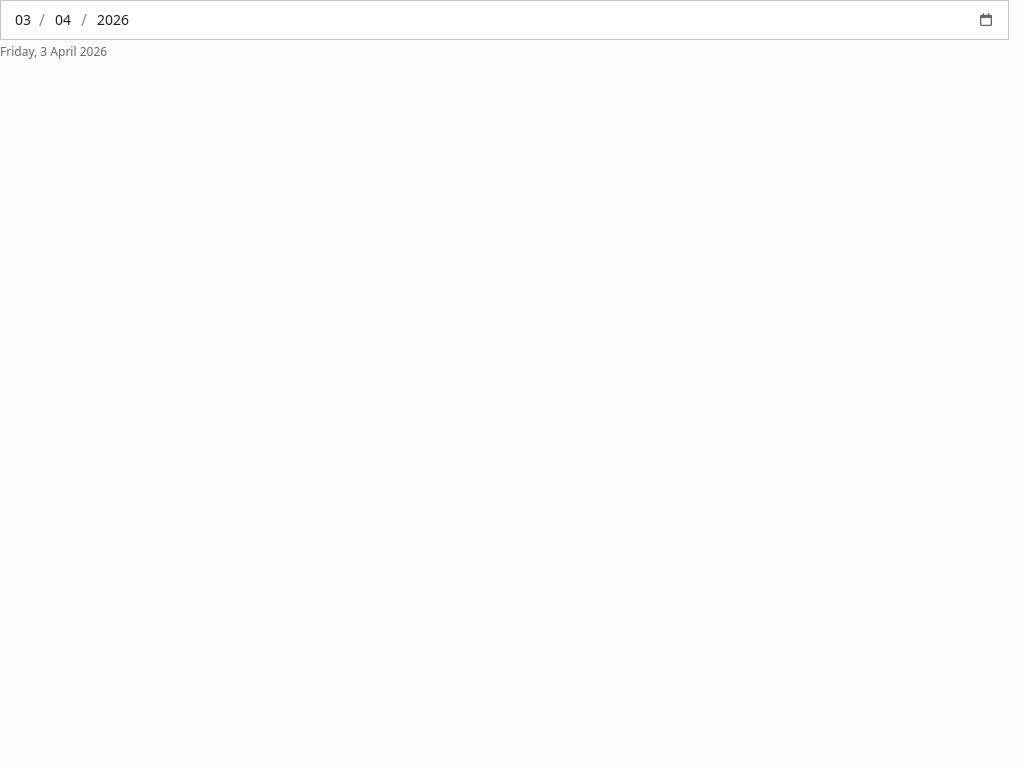
as a controlled field › can be cleared when it is not required
Click the button named "Open calendar": [986, 20] box [972, 6, 1000, 34]
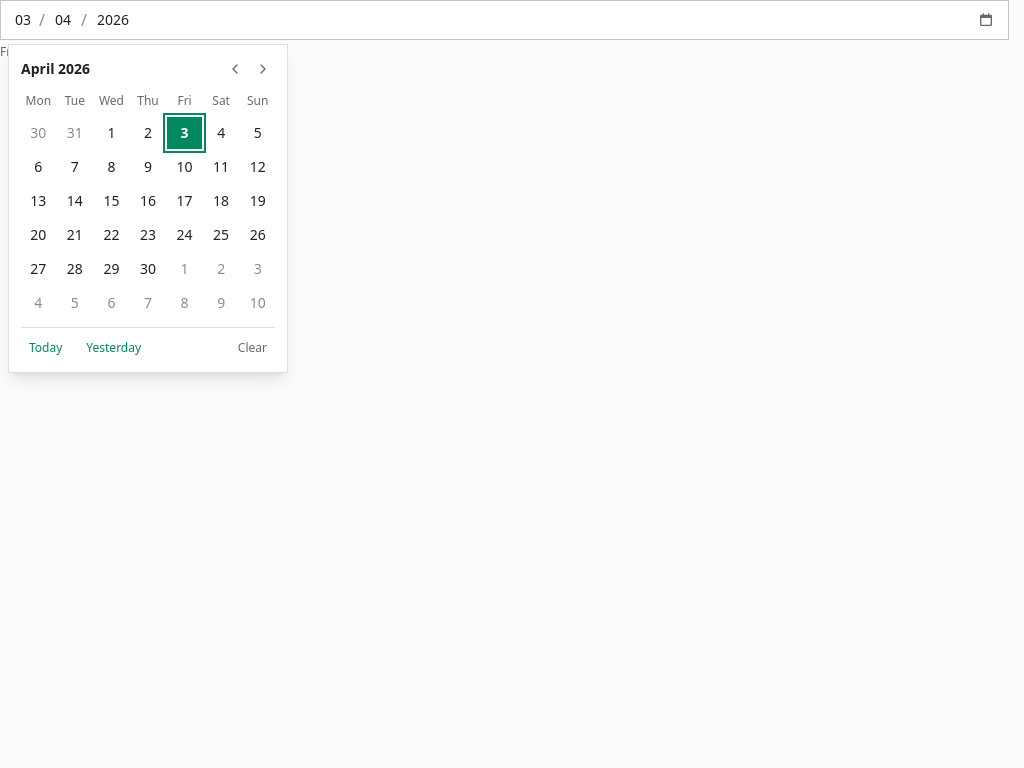
Click the button "Clear": [252, 348] box [230, 336, 275, 360]
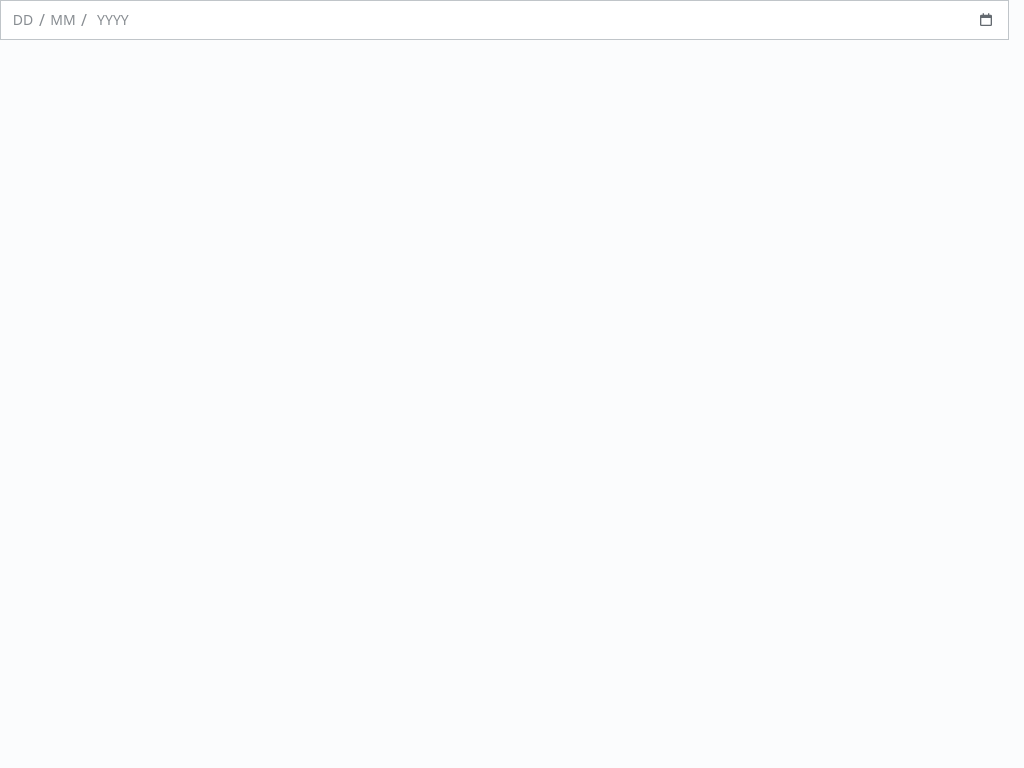
Expected: the field named "Day" is empty, [9, 10, 37, 30]
